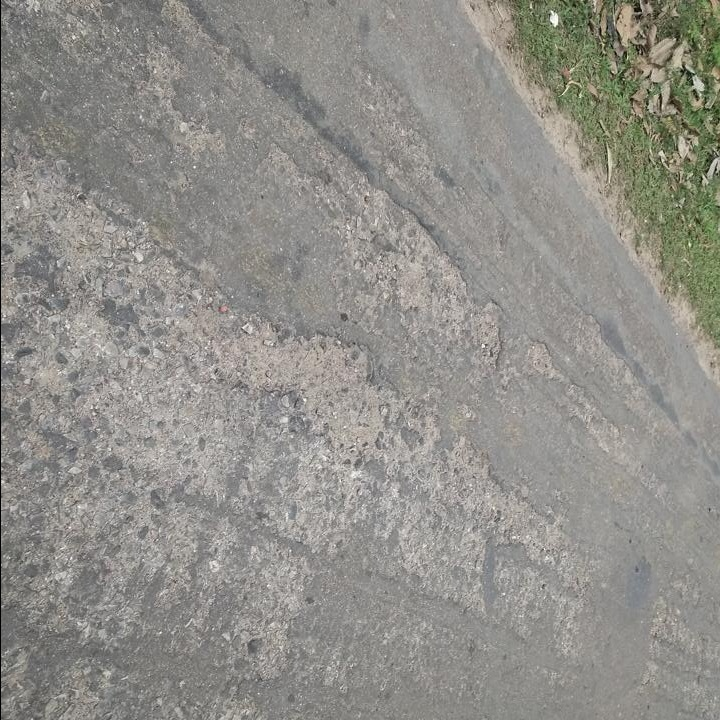pothole: (361, 193, 510, 377), (235, 317, 399, 460)
